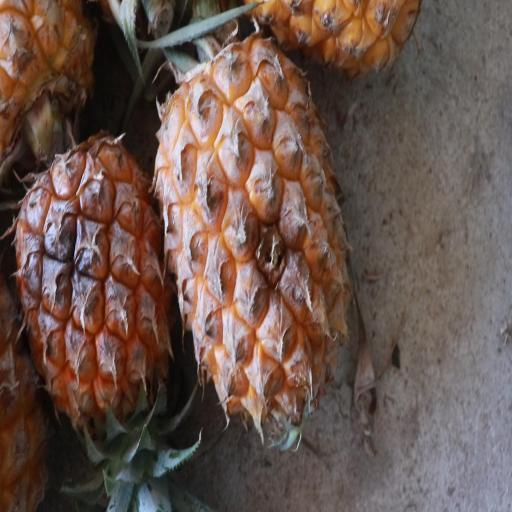Pineapple - v8 v1: (151, 22, 358, 440), (8, 127, 174, 442), (3, 492, 6, 497)
